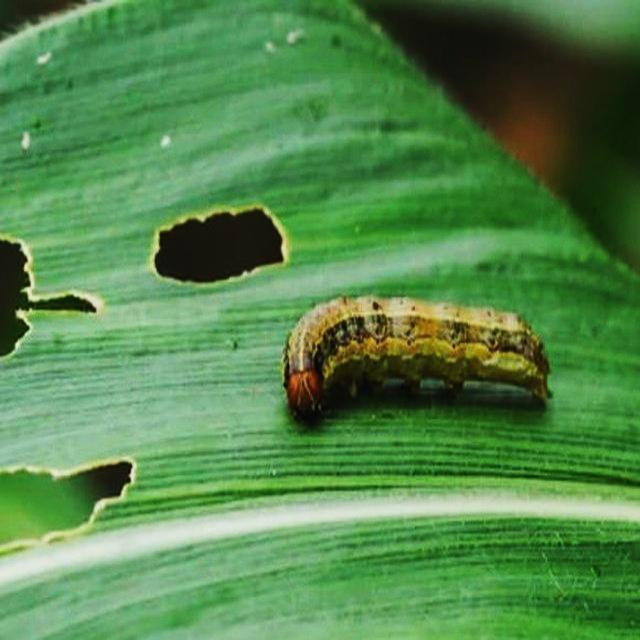gusano_cogollero: (276, 290, 552, 420)
